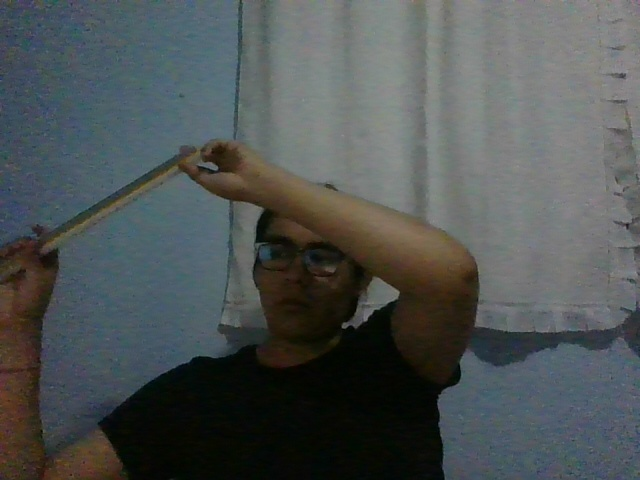regla: (1, 146, 203, 282)
